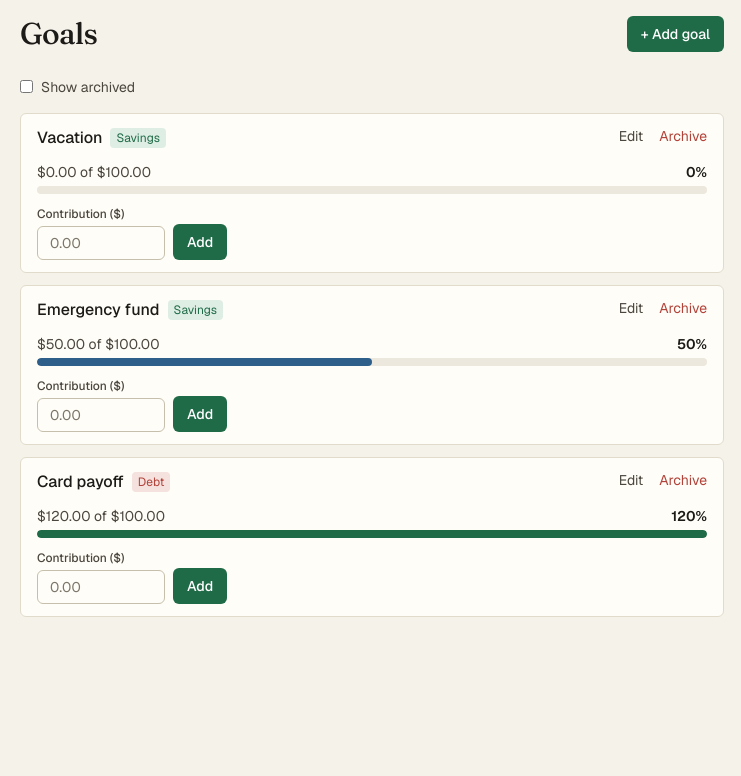
Test case: GoalsPage › hides archived goals until Show archived refetches with true
Expected: the element "Vacation" is shown, x1=20 y1=112 x2=724 y2=272
Expected: the element "Old laptop" is not shown
Click the checkbox labelled "Show archived".
click(26, 86)  # box x1=20 y1=80 x2=33 y2=93
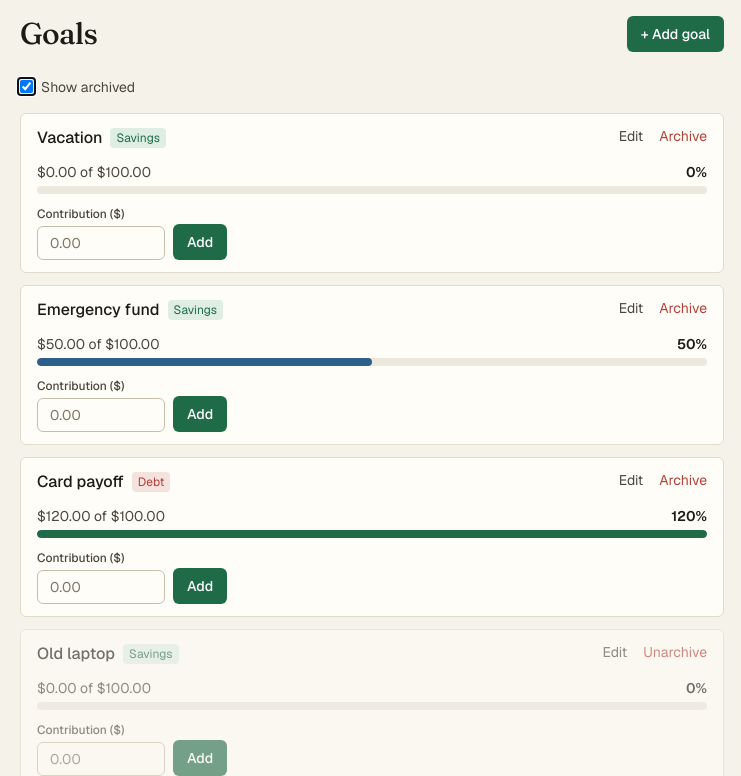
Expected: the button "Unarchive" is shown, x1=643 y1=642 x2=707 y2=662
